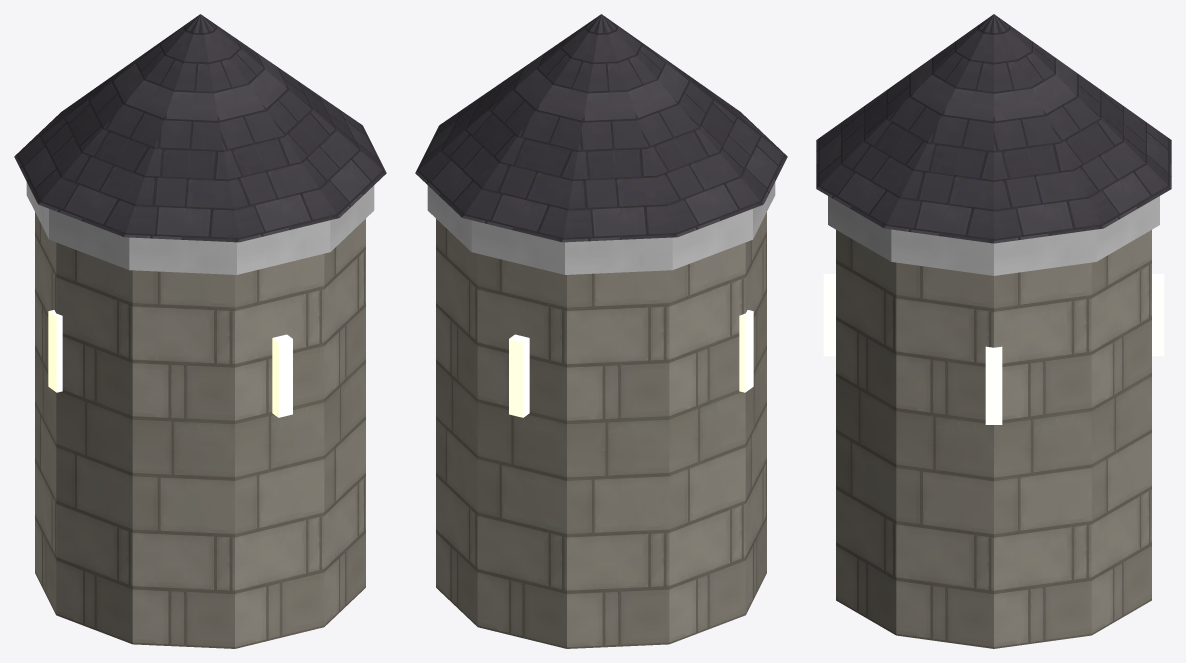
Rendered from tower.wallet.t3.glb.
The picture shows the model from 3 angles, left to right: view 1: azimuth 30°, elevation 25°; view 2: azimuth 150°, elevation 25°; view 3: azimuth 270°, elevation 25°; orthographic projection.
Parts seen in each view (by area): view 1: castle.tower.wallet.t3; view 2: castle.tower.wallet.t3; view 3: castle.tower.wallet.t3.
Boxes of the visible parts, x1,y1,x2,y2 form: castle.tower.wallet.t3: [14, 14, 386, 648]; castle.tower.wallet.t3: [415, 14, 787, 648]; castle.tower.wallet.t3: [816, 14, 1171, 648].
Bounding box in the file's own units: 1.8 × 3 × 1.71.
4 materials, 3 textured.
